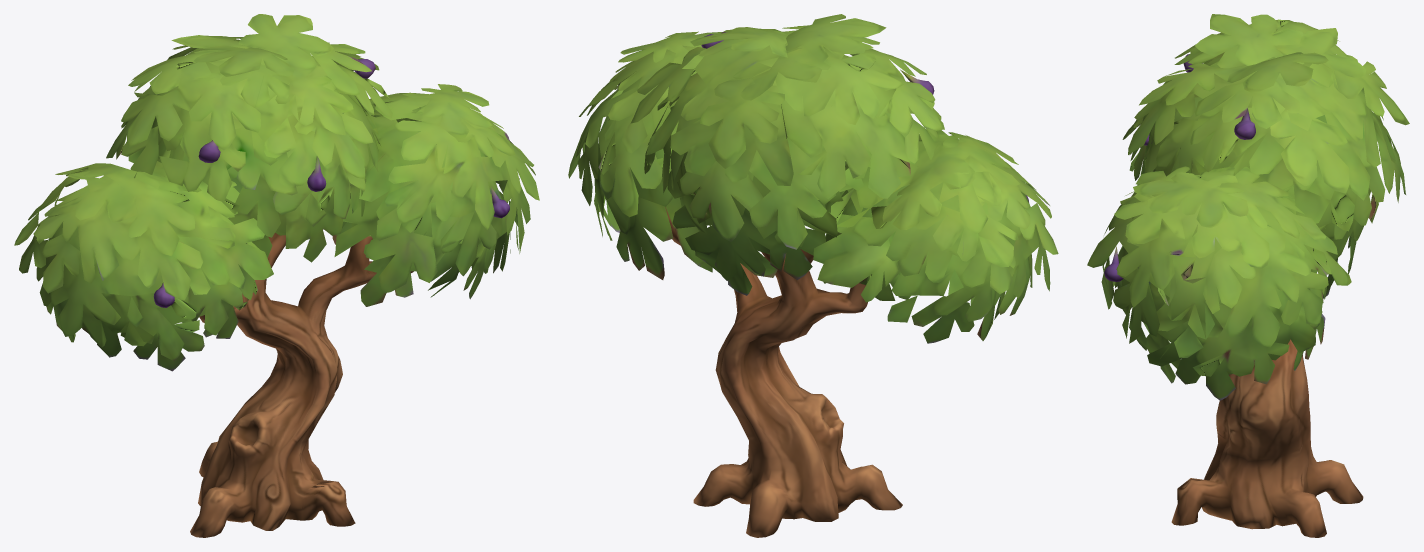
Rendered from pond-fig.glb.
The picture shows the model from 3 angles, left to right: view 1: azimuth 30°, elevation 25°; view 2: azimuth 150°, elevation 25°; view 3: azimuth 270°, elevation 25°; orthographic projection.
Visible parts, largest first — view 1: geometry_0; view 2: geometry_0; view 3: geometry_0.
Part boxes in pixels (left/top/right/bottom): geometry_0: left=14, top=14, right=539, bottom=537; geometry_0: left=568, top=14, right=1058, bottom=537; geometry_0: left=1087, top=14, right=1409, bottom=537.
Size of the model in its own units: 0.9565 by 0.9048 by 0.5747.
Materials: 1 (1 with a texture image).
